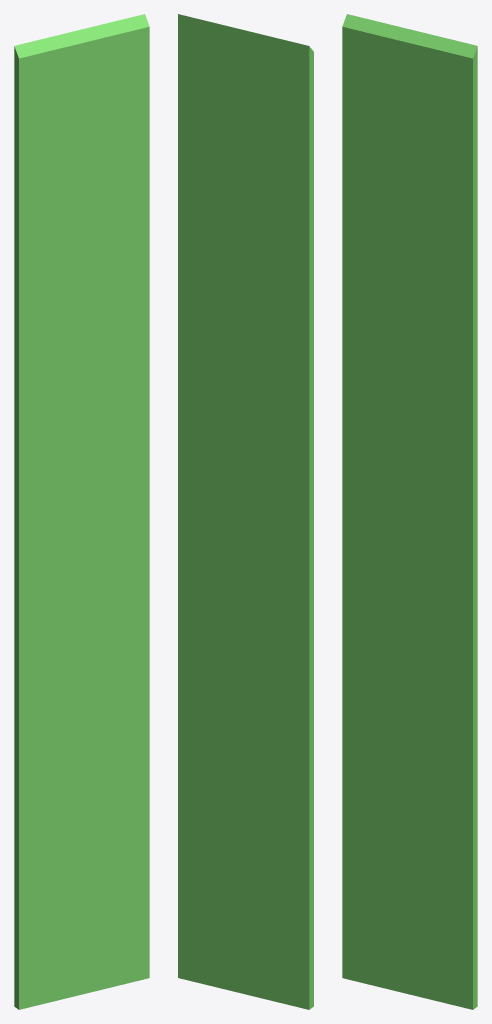
The model's file is sm_Collider34.fbx.
3 views of the same model, side by side, from view 1: azimuth 30°, elevation 25°; view 2: azimuth 150°, elevation 25°; view 3: azimuth 330°, elevation 25° (orthographic).
Parts seen in each view (by area): view 1: sm_Collider.047; view 2: sm_Collider.047; view 3: sm_Collider.047.
Boxes of the visible parts, bbox=[...] form: sm_Collider.047: bbox=[14, 14, 149, 1009]; sm_Collider.047: bbox=[178, 14, 313, 1009]; sm_Collider.047: bbox=[342, 14, 477, 1009].
Size of the model in its own units: 699 by 4913 by 43.95.
